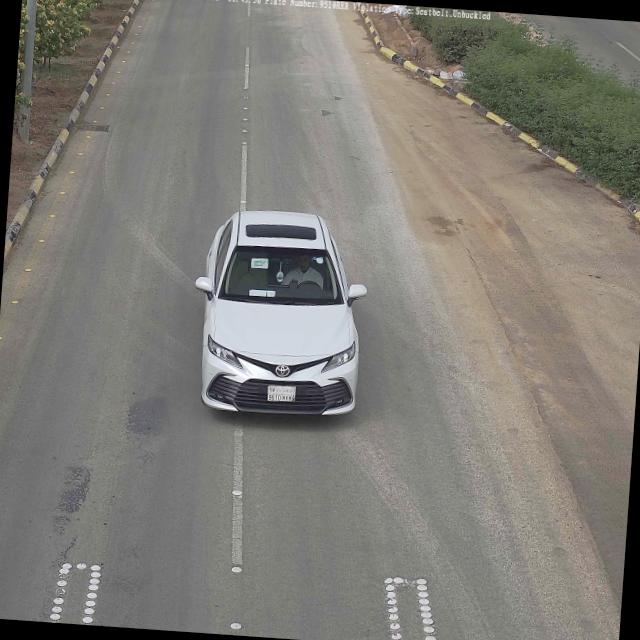person_without_seatbelt: (282, 254, 325, 293)
